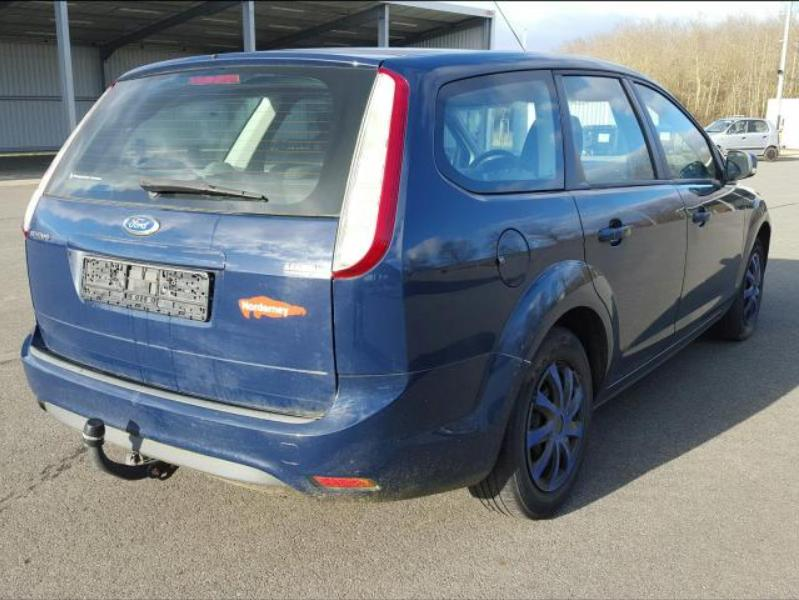Back-bumper: (16, 326, 524, 504)
Back-door: (553, 70, 684, 382)
Back-wheel: (480, 328, 595, 521)
Back-window: (438, 69, 566, 195), (563, 76, 655, 183)
Back-windshield: (45, 64, 374, 218)
Front-door: (626, 76, 745, 340), (735, 185, 772, 289)
Front-wheel: (710, 238, 767, 343)
Front-window: (630, 81, 719, 180)
Mirror: (722, 152, 757, 188)
Quarter-panel: (332, 176, 616, 385)
Rocker-panel: (597, 304, 732, 412)
Roof: (121, 45, 658, 90)
Tail-light: (332, 66, 409, 278), (23, 86, 113, 231)
Trunk: (24, 192, 336, 417)
